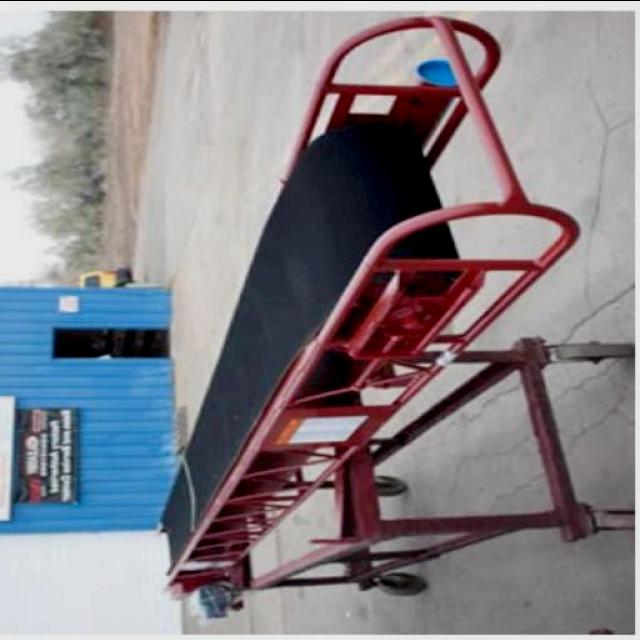conveyor: (156, 121, 459, 583)
